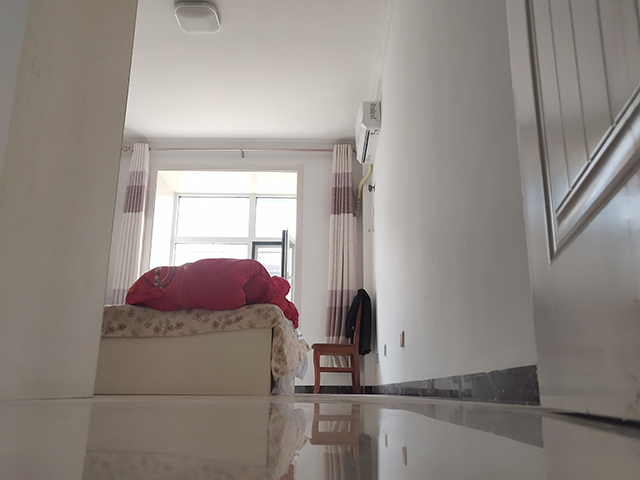bed: (96, 294, 313, 399)
curtain: (323, 143, 363, 365), (112, 139, 152, 305)
stool: (307, 297, 367, 396)
